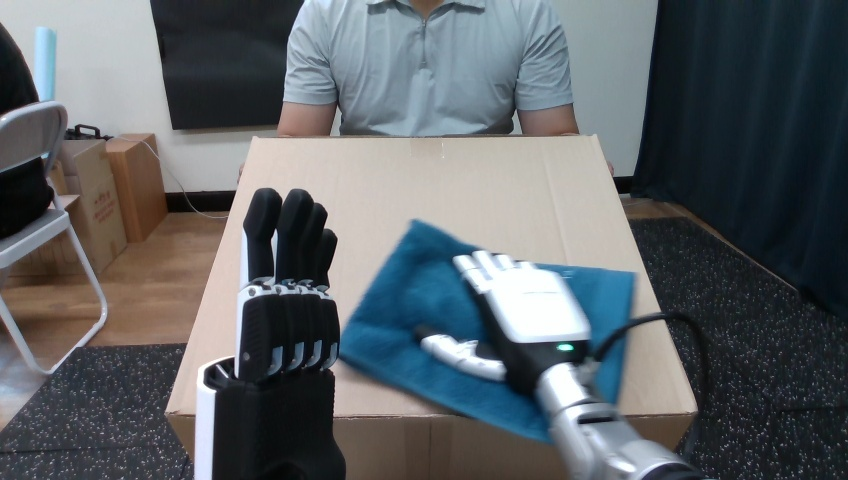left robot hand: (415, 250, 701, 479), (195, 188, 345, 478)
